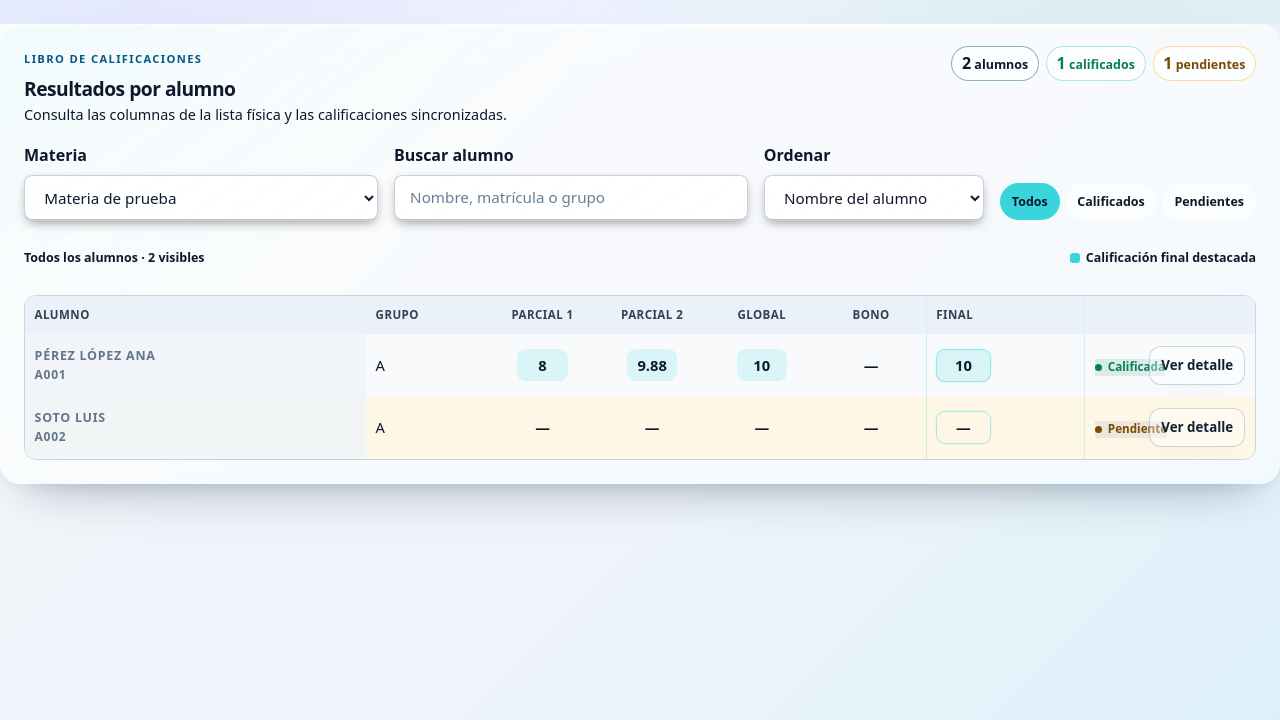
Scenario: ConsultaCalificaciones › permite recuperar los resultados después de una búsqueda sin coincidencias
expect the text "Pérez López Ana" is shown: met, box top-left (35, 347), bottom-right (156, 364)
Type "sin-coincidencias" into the search field labelled "Buscar alumno" at (571, 198), box top-left (394, 175), bottom-right (748, 221)
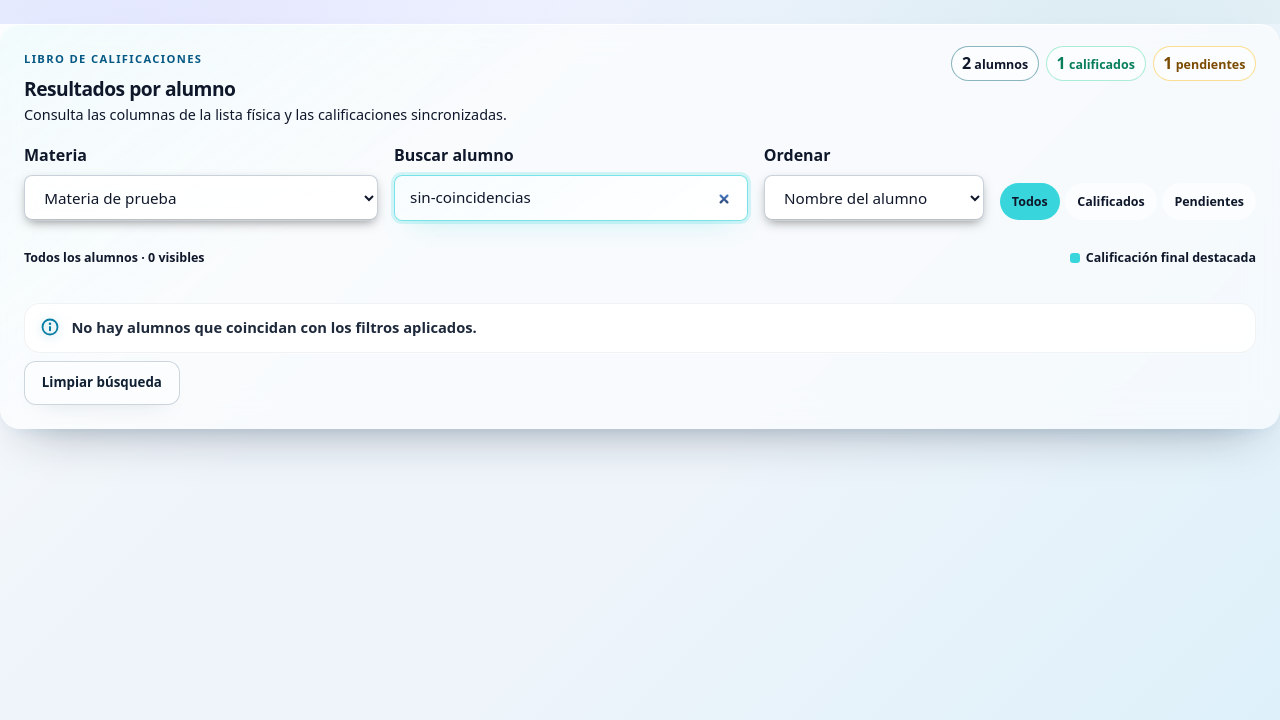
expect the text "No hay alumnos que coincidan con los filtros aplicados." is shown: met, box top-left (71, 317), bottom-right (477, 337)
expect the button "Limpiar búsqueda" is shown: met
Click the button "Limpiar búsqueda" at (102, 383), box top-left (24, 361), bottom-right (180, 405)
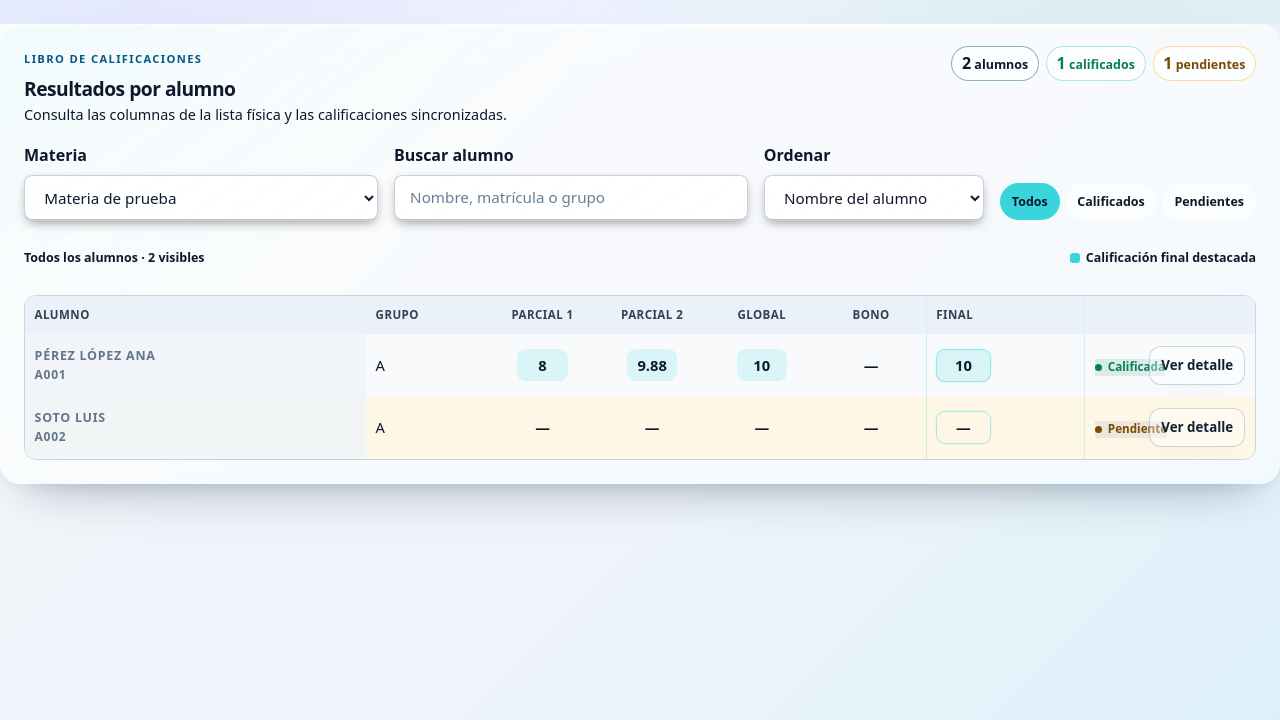
expect the search field labelled "Buscar alumno" is empty: met, box top-left (394, 175), bottom-right (748, 221)
expect the text "Pérez López Ana" is shown: met, box top-left (35, 347), bottom-right (156, 364)
